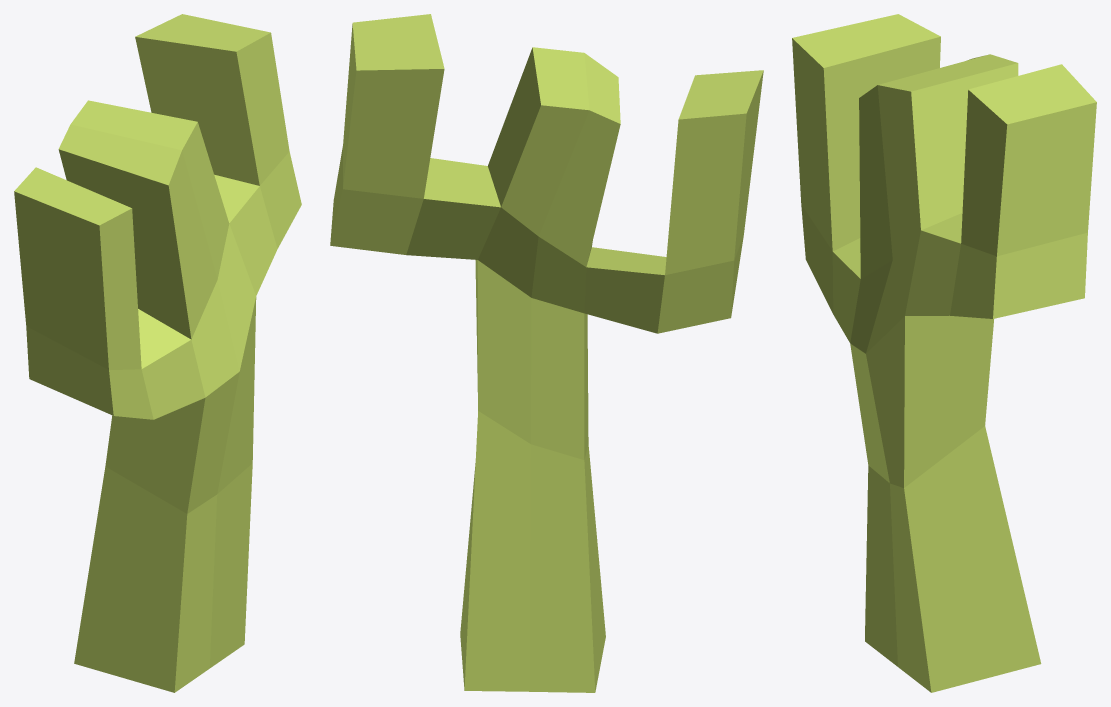
File: Cactus_1.glb
3 renders of one model, left to right at view 1: azimuth 30°, elevation 25°; view 2: azimuth 150°, elevation 25°; view 3: azimuth 270°, elevation 25°, orthographic. The views are drawn at different scales.
Visible parts, largest first — view 1: Cactus_1; view 2: Cactus_1; view 3: Cactus_1.
Part boxes in pixels (x1,y1,x2,y2): Cactus_1: (14, 14, 301, 692); Cactus_1: (330, 14, 763, 692); Cactus_1: (792, 14, 1096, 692).
Bounding box in the file's own units: 3.88 × 6.44 × 2.92.
